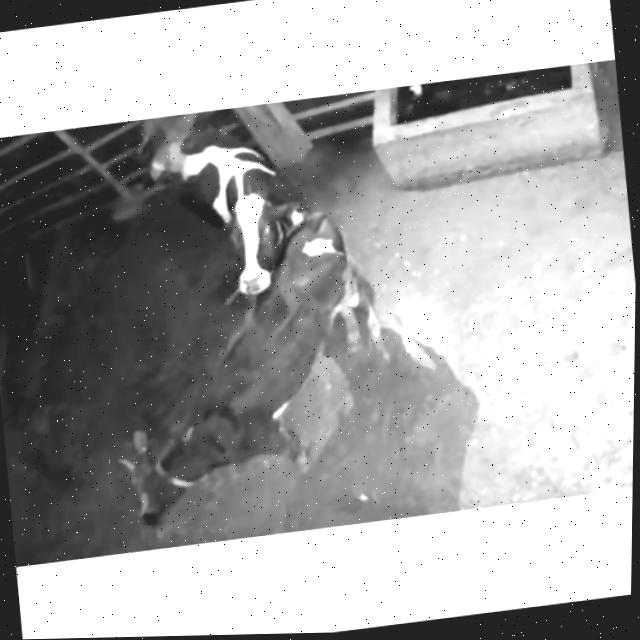propping: (190, 162, 335, 343)
